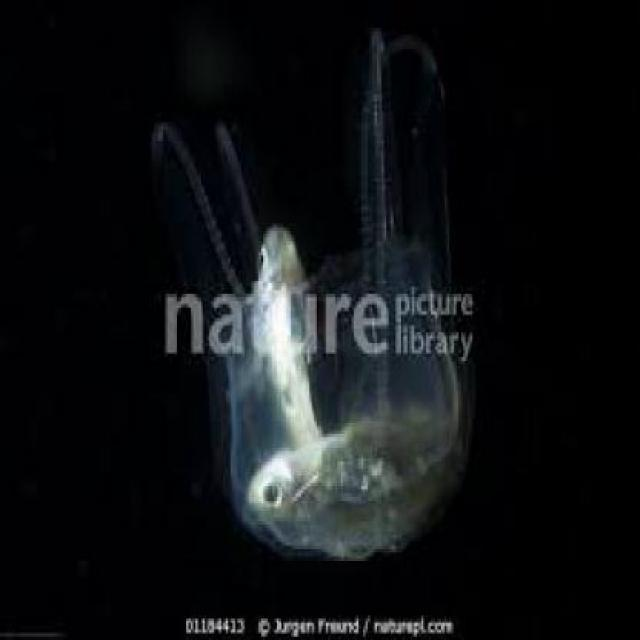Jellyfish: (134, 34, 470, 564)
